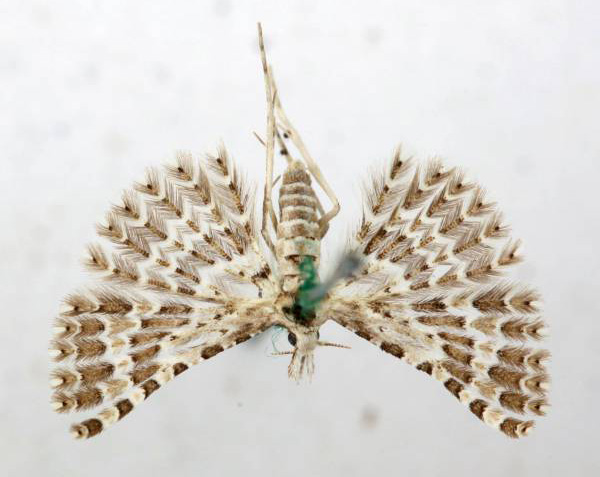Alucitidae: (44, 21, 554, 446)
moth: (46, 23, 556, 448)
